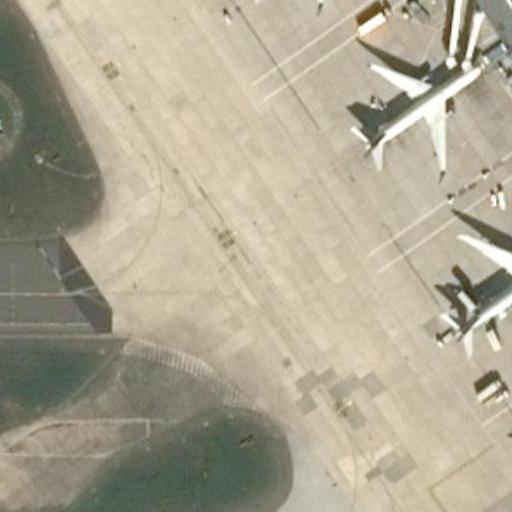Aircraft: (343, 47, 486, 173), (428, 217, 512, 361), (221, 0, 366, 3)
